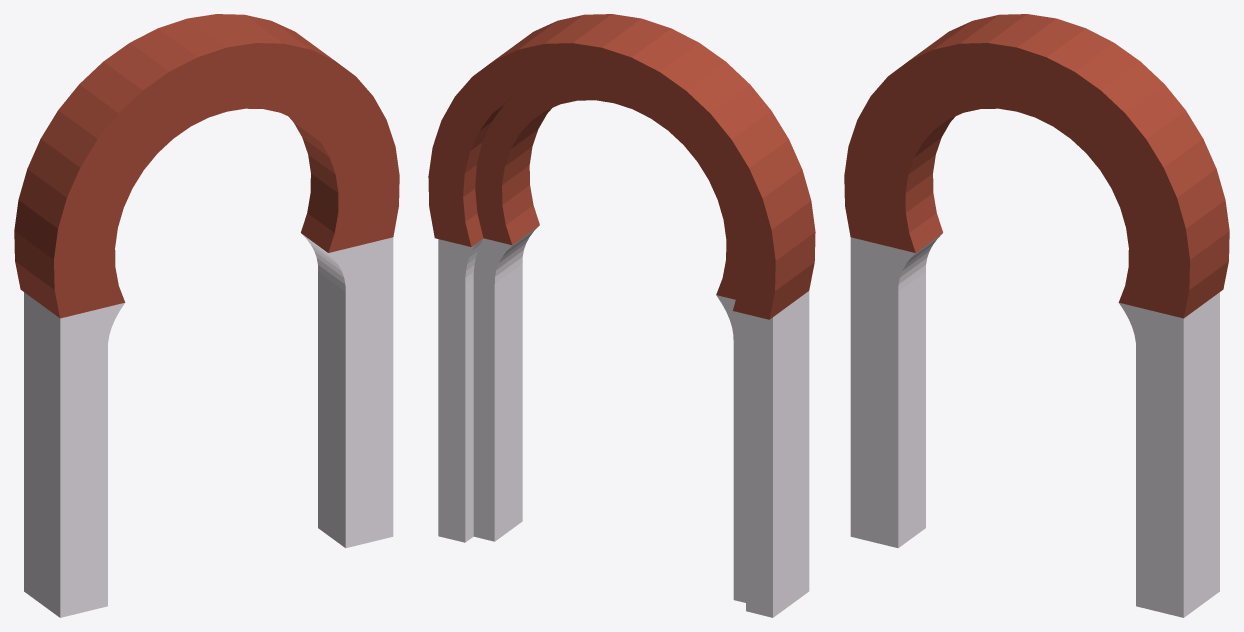
Rendered from Arch_01.fbx.
3 renders of one model, left to right at view 1: azimuth 30°, elevation 25°; view 2: azimuth 150°, elevation 25°; view 3: azimuth 330°, elevation 25°, orthographic.
Parts seen in each view (by area): view 1: Cube; view 2: Cube; view 3: Cube.
Part boxes in pixels (x1=…): Cube: x1=14, y1=14, x2=399, y2=617; Cube: x1=428, y1=14, x2=815, y2=617; Cube: x1=844, y1=14, x2=1229, y2=617.
Bounding box in the file's own units: 287 × 1448 × 2120.
